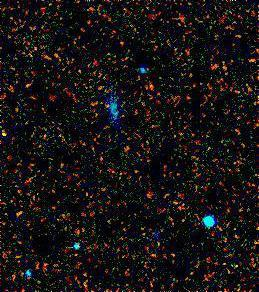star: (138, 184, 168, 214)
